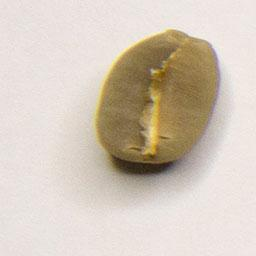premium: (91, 26, 224, 169)
